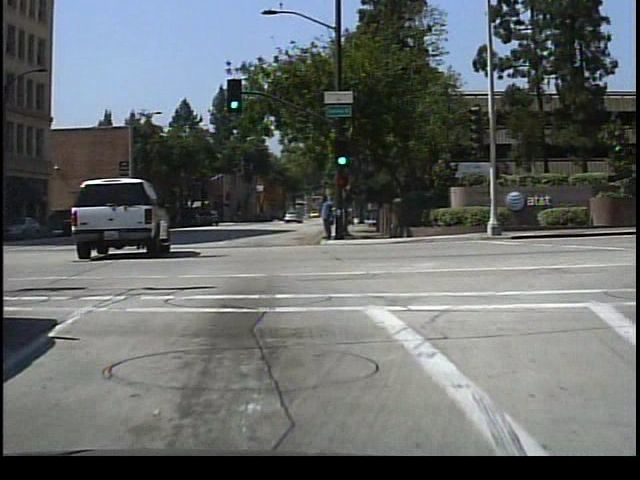person: (316, 189, 337, 241), (322, 193, 340, 239)
